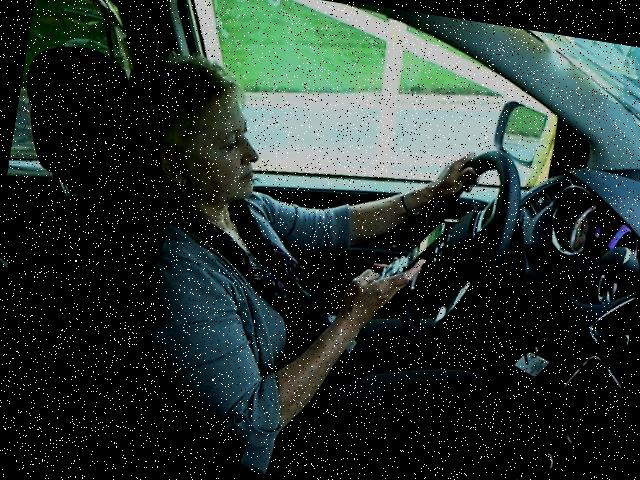c1 - Texting: (46, 32, 542, 477)
